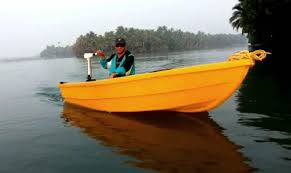boat: (58, 48, 272, 114)
